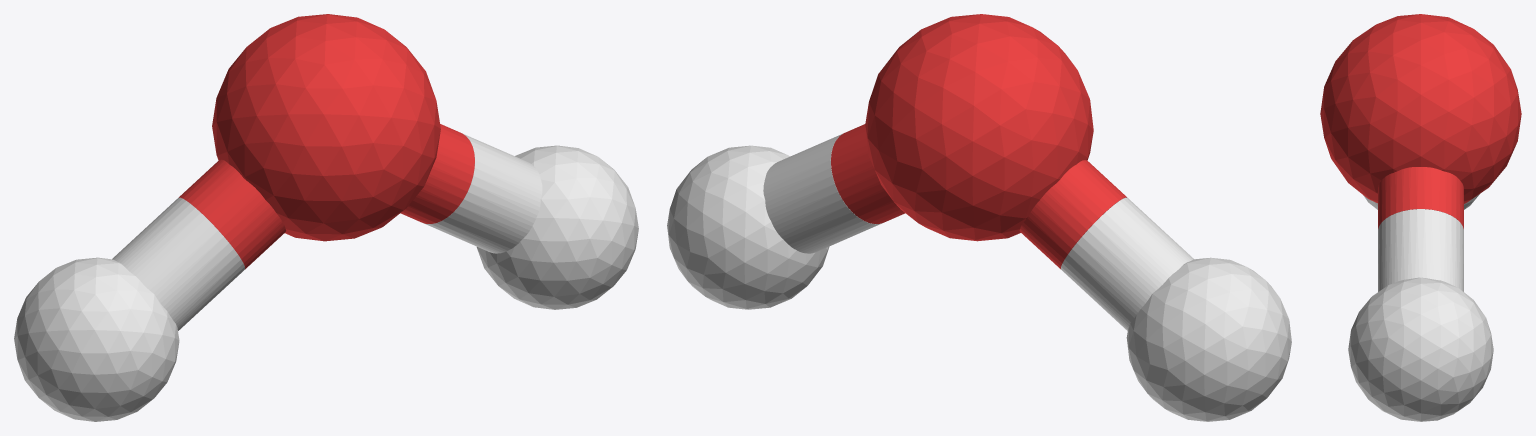
3 renders of one model, left to right at view 1: azimuth 30°, elevation 25°; view 2: azimuth 150°, elevation 25°; view 3: azimuth 270°, elevation 25°, orthographic. The views are drawn at different scales.
Visible parts, largest first — view 1: h2o; view 2: h2o; view 3: h2o.
Part boxes in pixels (left/top/right/bottom): h2o: left=14, top=14, right=638, bottom=421; h2o: left=667, top=14, right=1291, bottom=421; h2o: left=1320, top=14, right=1521, bottom=421.
Bounding box in the file's own units: 841 × 446 × 277.
